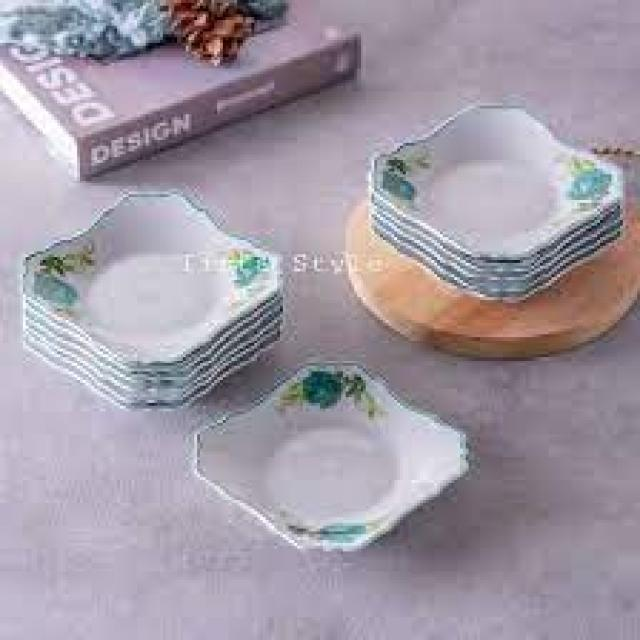Plate: (165, 360, 473, 560), (21, 186, 282, 368), (368, 95, 624, 262)
